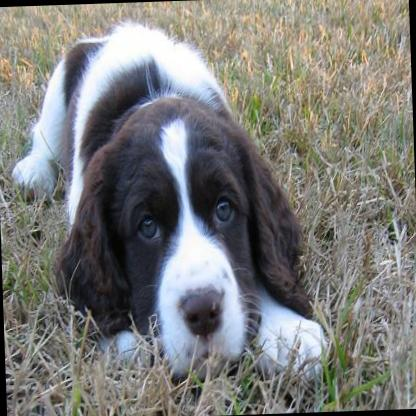English_springer: (6, 12, 331, 394)
